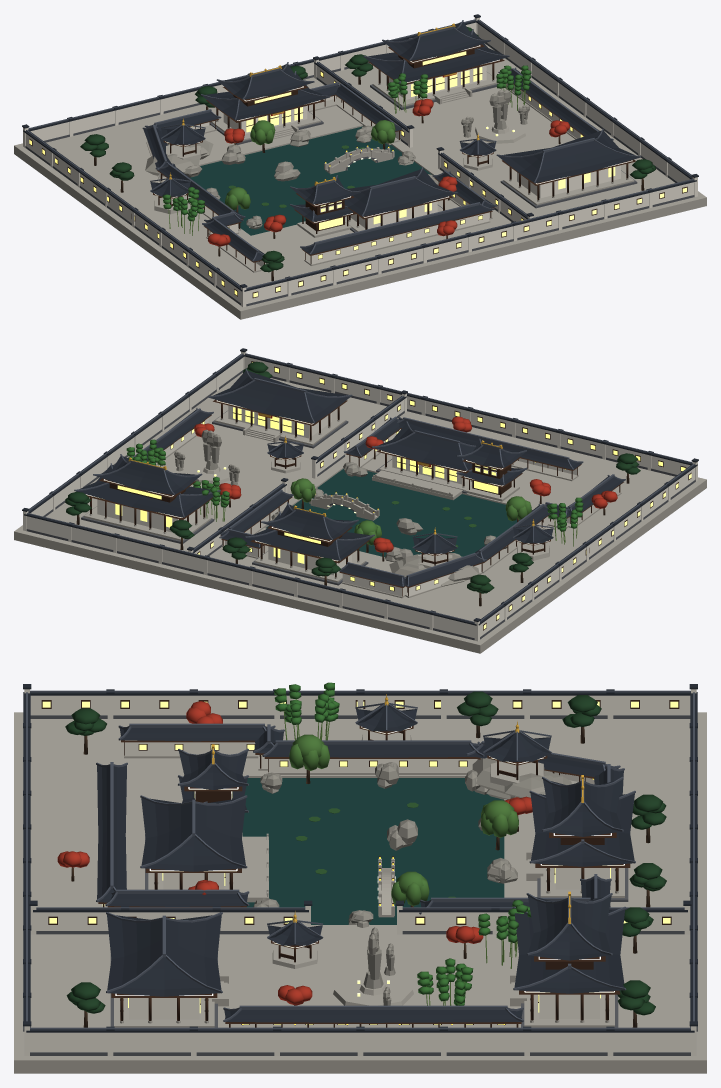
Rendered from lingering_garden.glb.
The picture shows the model from 3 angles, top to bottom: view 1: azimuth 30°, elevation 25°; view 2: azimuth 150°, elevation 25°; view 3: azimuth 270°, elevation 25°; orthographic projection. The views are drawn at different scales.
Visible parts, largest first — view 1: LingeringGarden; view 2: LingeringGarden; view 3: LingeringGarden.
Part boxes in pixels (<box>): LingeringGarden: <box>14,14,706,319</box>; LingeringGarden: <box>14,348,706,653</box>; LingeringGarden: <box>14,682,706,1073</box>.
Size of the model in its own units: 126 by 17.35 by 106.
